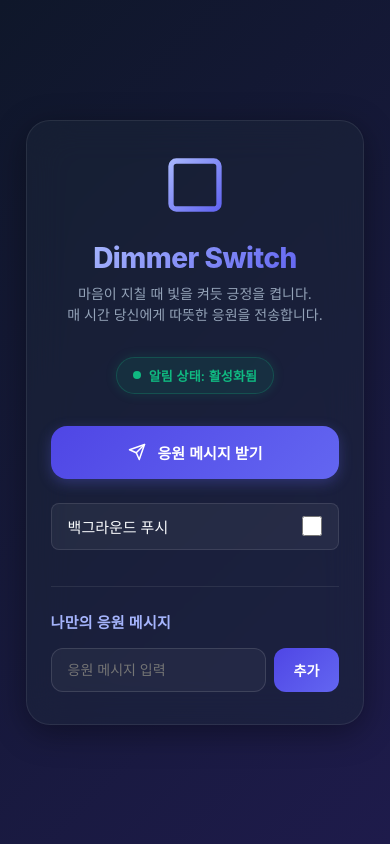
Capacitor PWA 푸쉬 / 알림 기능 테스트 › 커스텀 응원 메시지를 등록하는 경우
The width and height of the screenshot is (390, 844).
Type "오늘 하루도 행복하자!" into the field with placeholder "응원 메시지 입력".
click(158, 670); type("오늘 하루도 행복하자!")  # box top-left (51, 648), bottom-right (266, 692)
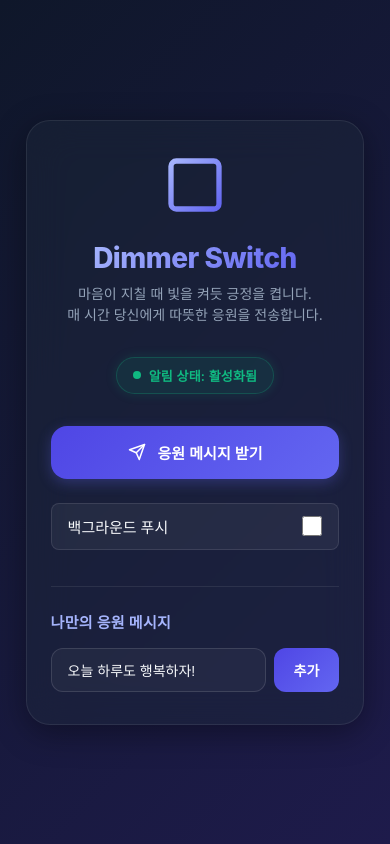
Click the button "추가".
click(306, 670)  # box top-left (274, 648), bottom-right (339, 692)
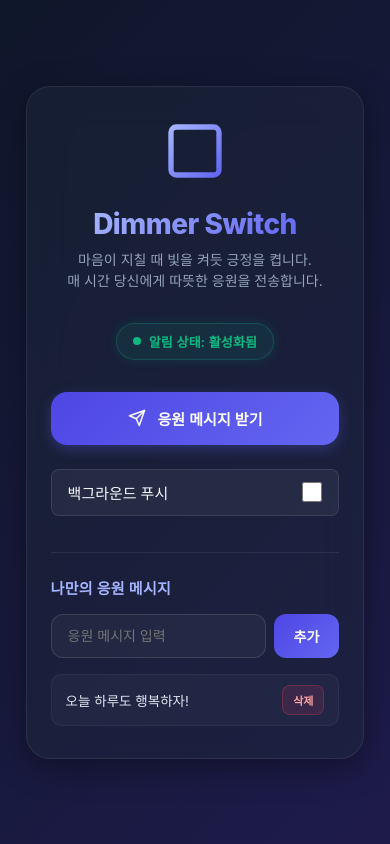
Check: the text "오늘 하루도 행복하자!" is shown, box top-left (66, 692), bottom-right (189, 708)
